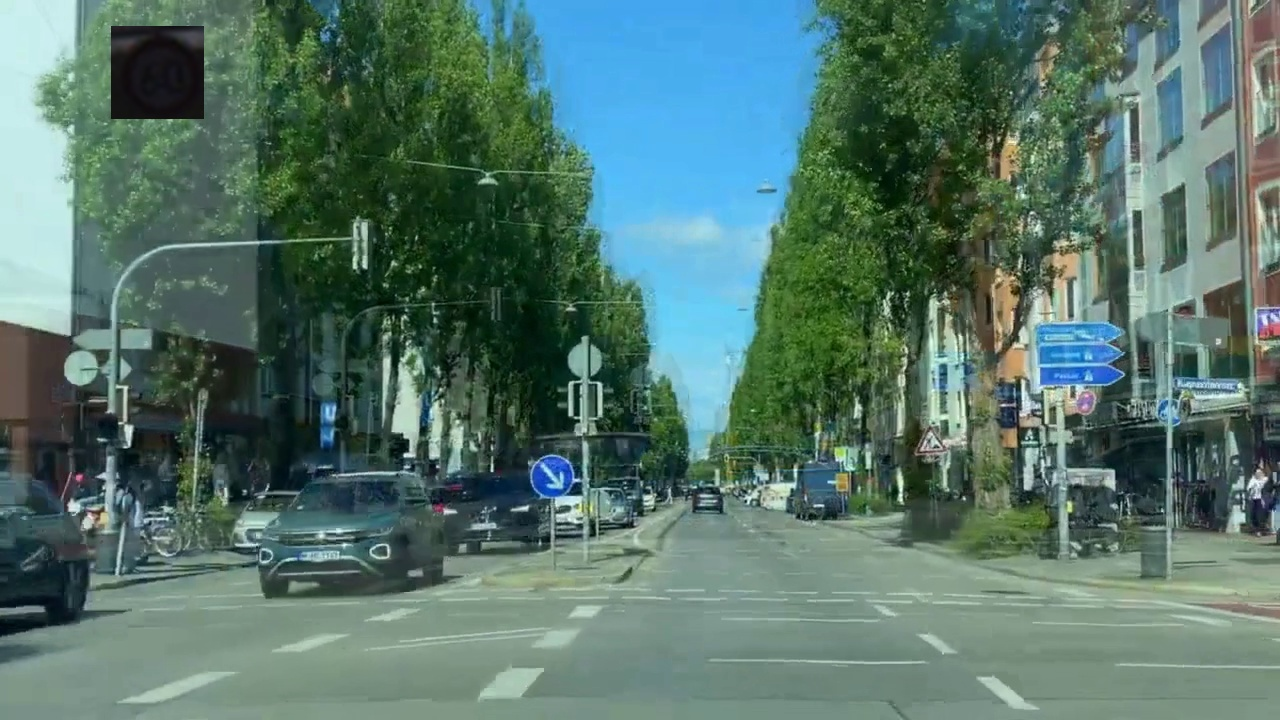Speed 60: (111, 26, 204, 119)
